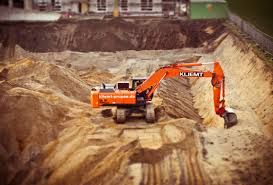excavator: (90, 58, 242, 130)
